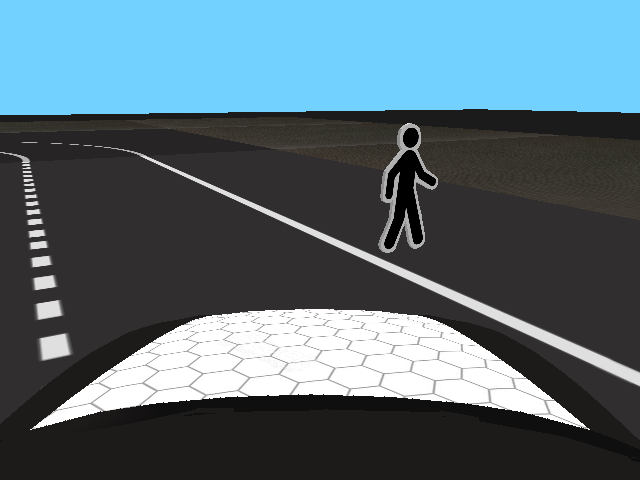pedestrian: (378, 123, 440, 253)
